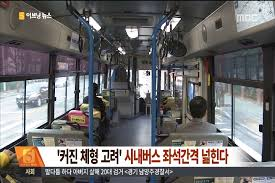seat: (30, 123, 91, 148)
